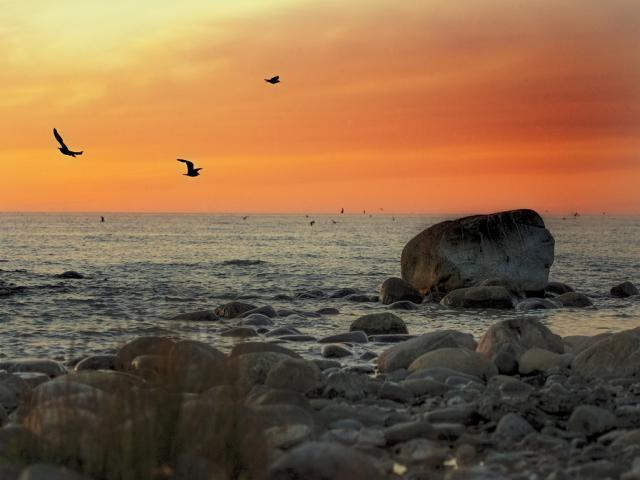Bird: (54, 128, 83, 158), (179, 158, 202, 178), (262, 74, 282, 84), (330, 218, 341, 225), (99, 213, 105, 222), (339, 207, 344, 215), (361, 208, 366, 216), (310, 217, 314, 225), (241, 215, 247, 219), (379, 206, 383, 212), (394, 217, 397, 220), (306, 216, 309, 218), (370, 216, 372, 218)
